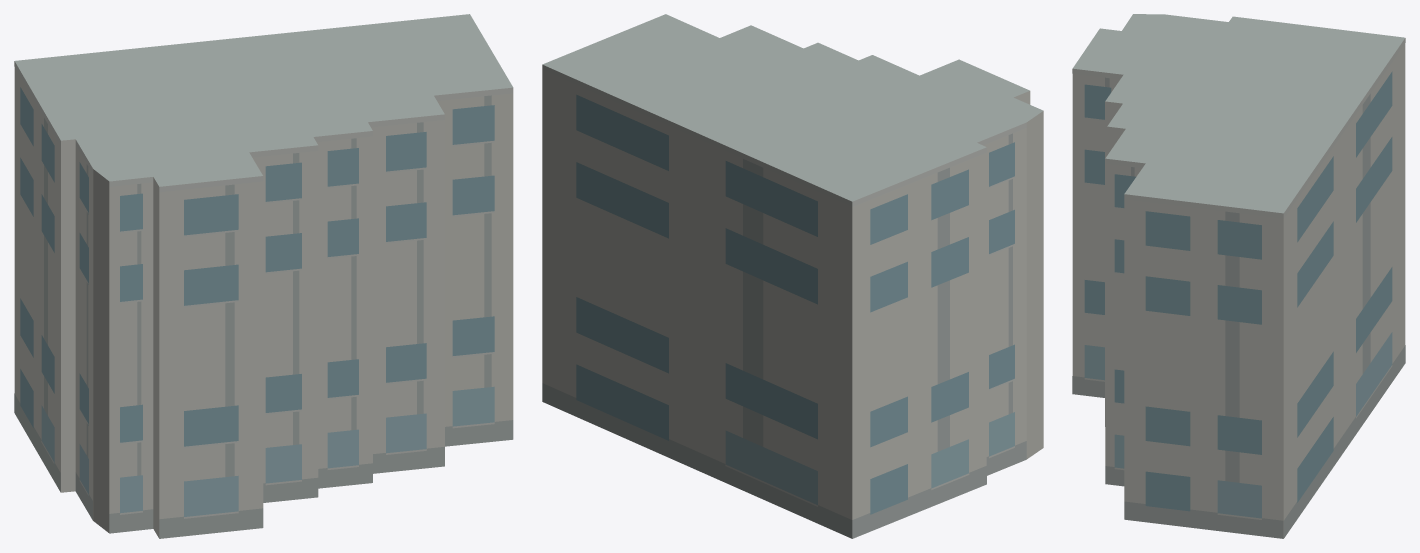
File: survey-upis-32786233.glb
The picture shows the model from 3 angles, left to right: view 1: azimuth 30°, elevation 25°; view 2: azimuth 150°, elevation 25°; view 3: azimuth 270°, elevation 25°; orthographic projection. The views are drawn at different scales.
Visible parts, largest first — view 1: survey-upis-32786233.tmp; view 2: survey-upis-32786233.tmp; view 3: survey-upis-32786233.tmp.
Boxes of the visible parts, x1,y1,x2,y2 form: survey-upis-32786233.tmp: [14, 14, 513, 538]; survey-upis-32786233.tmp: [542, 14, 1043, 538]; survey-upis-32786233.tmp: [1072, 14, 1405, 538].
Bounding box in the file's own units: 20.04 × 15.25 × 14.15.
